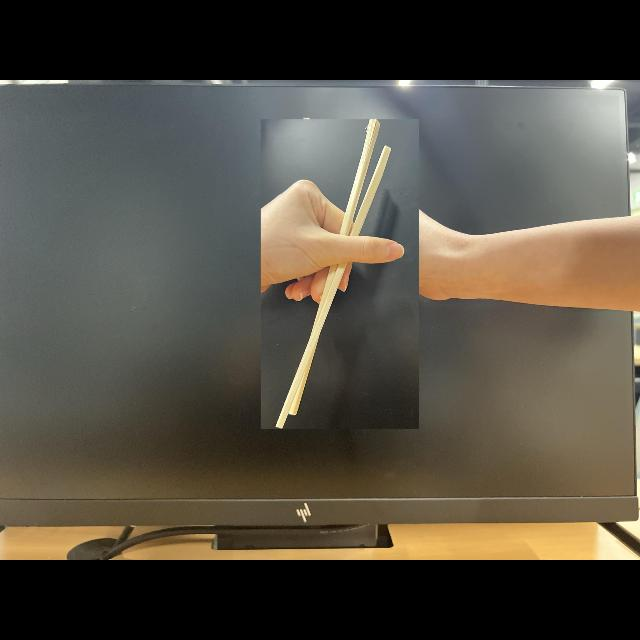stick: (261, 120, 419, 428)
